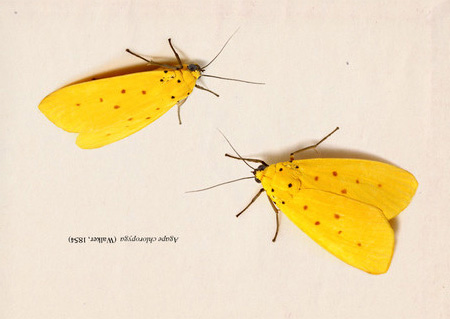Agape chloropyga: (181, 121, 419, 275), (28, 26, 265, 152)
moth: (183, 123, 421, 277), (26, 24, 263, 150)
